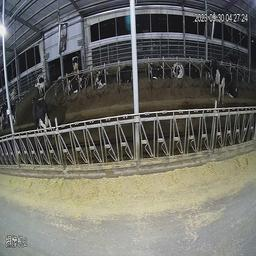cow: (27, 87, 53, 144), (206, 55, 226, 104), (66, 66, 84, 96), (229, 69, 242, 101), (146, 56, 161, 83), (91, 69, 107, 93), (118, 58, 131, 87), (168, 56, 185, 78), (35, 71, 48, 98), (190, 60, 203, 84)
